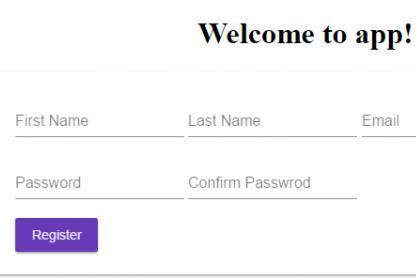button: (14, 216, 100, 253)
field_line: (186, 111, 358, 139), (13, 111, 187, 138), (12, 174, 186, 201), (188, 175, 359, 201)
